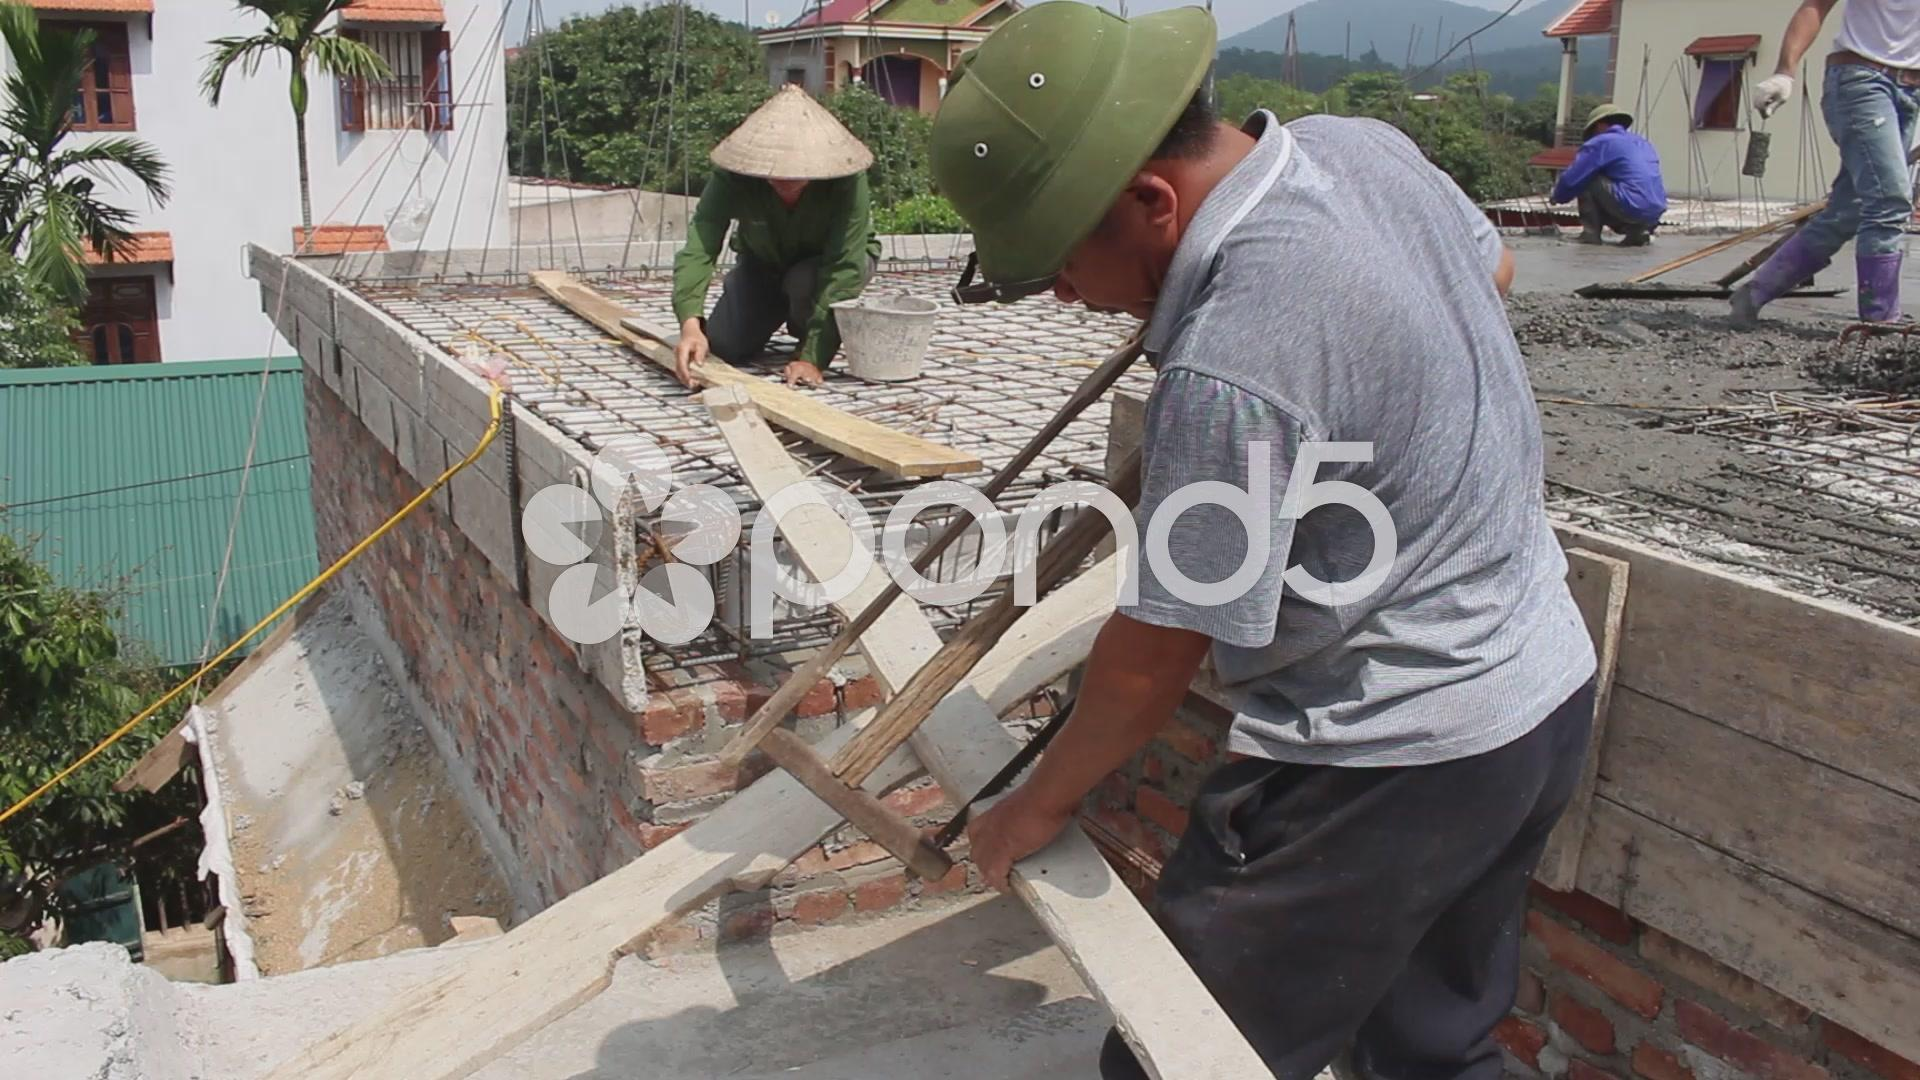no hat: (889, 1, 1294, 321), (696, 39, 891, 229), (1576, 74, 1664, 171)
no vest: (1141, 119, 1539, 791), (661, 154, 884, 389), (1784, 1, 1920, 131), (1581, 134, 1696, 244)
